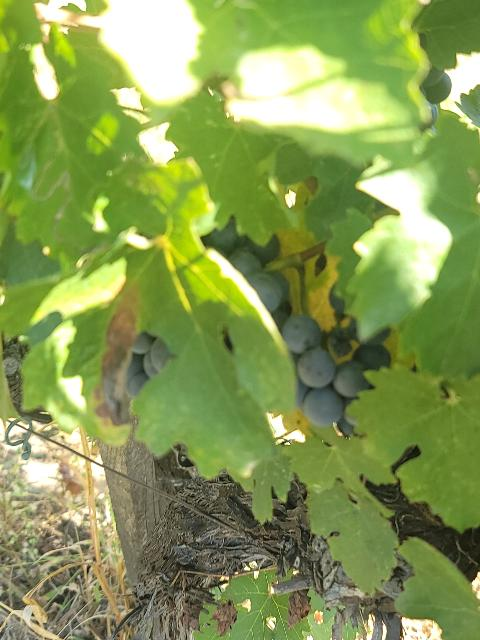grapes: (202, 220, 391, 436), (126, 332, 160, 398)
